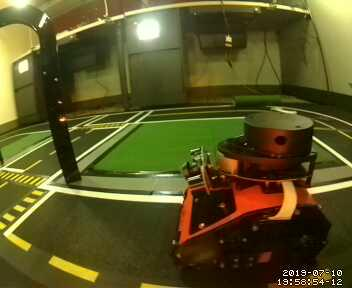pheeno: (176, 110, 333, 268)
